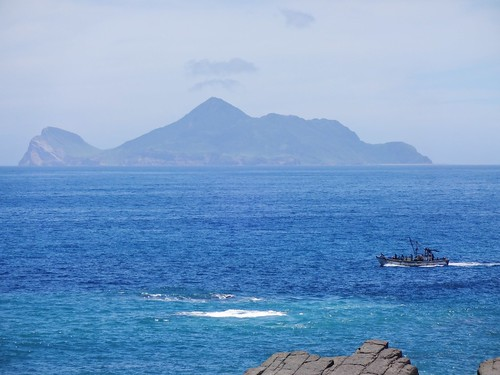turtleIslandLeft: (16, 96, 437, 167)
